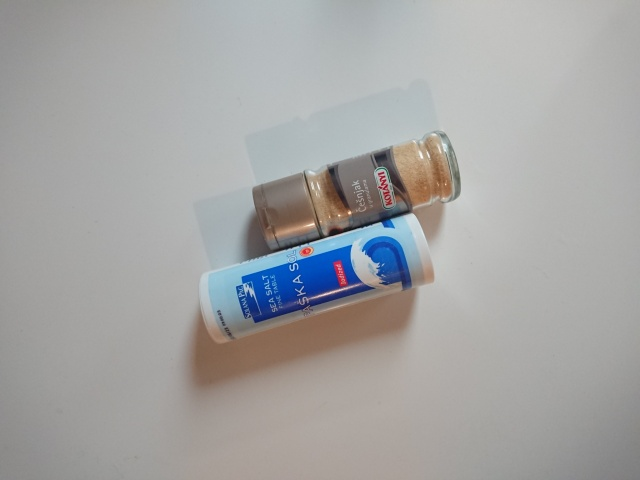Kotanyi Garlic Granules 70g: (249, 128, 463, 253)
Solana Pag Fine Sea Salt 250g: (196, 209, 438, 346)
